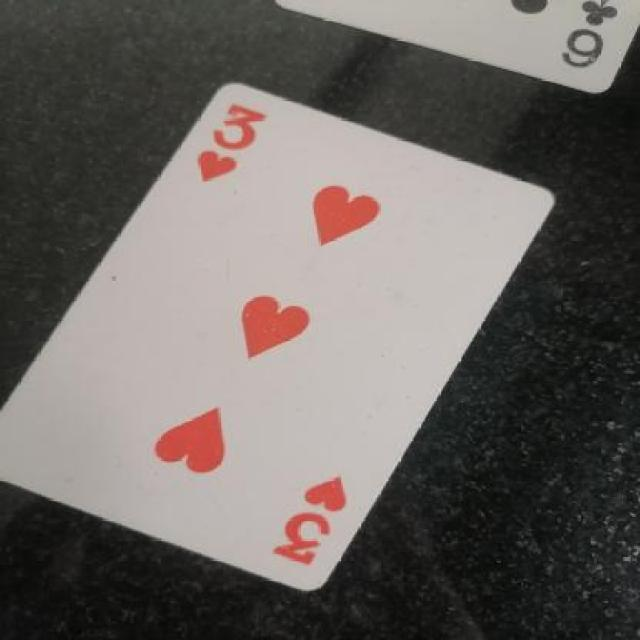3H: (263, 453, 379, 581), (171, 92, 274, 197)
